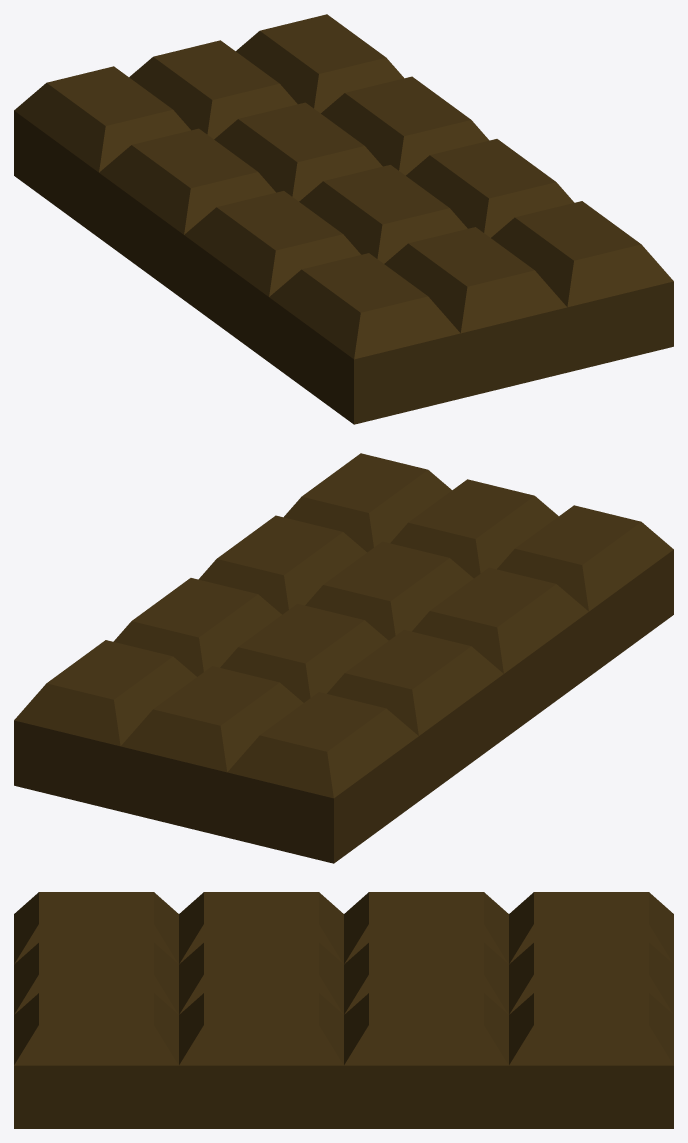
Rendered from chocolate_model.fbx.
3 views of the same model, one above another, from view 1: azimuth 30°, elevation 25°; view 2: azimuth 150°, elevation 25°; view 3: azimuth 270°, elevation 25° (orthographic). The views are drawn at different scales.
Visible parts, largest first — view 1: Chocolate; view 2: Chocolate; view 3: Chocolate.
Boxes of the visible parts, box(x1,y1,x2,y2) form: Chocolate: box(14, 14, 673, 424); Chocolate: box(14, 453, 673, 863); Chocolate: box(14, 892, 673, 1128).
Size of the model in its own units: 15.61 by 4.55 by 28.74.
